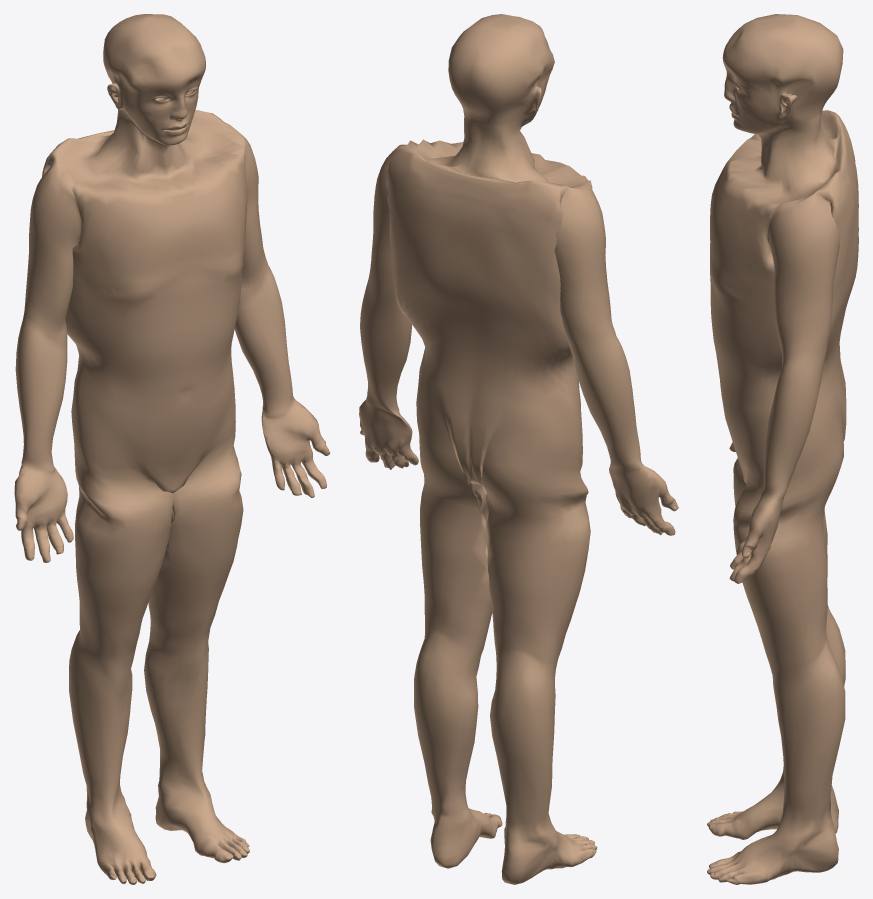
File: skin-candidate-f3c11.glb
3 views of the same model, side by side, from view 1: azimuth 30°, elevation 25°; view 2: azimuth 150°, elevation 25°; view 3: azimuth 270°, elevation 25° (orthographic).
Parts seen in each view (by area): view 1: MakeHuman_AT10_skin_fit_candidate_f3c11; view 2: MakeHuman_AT10_skin_fit_candidate_f3c11; view 3: MakeHuman_AT10_skin_fit_candidate_f3c11.
Boxes of the visible parts, x1=… form: MakeHuman_AT10_skin_fit_candidate_f3c11: x1=14, y1=14, x2=330, y2=884; MakeHuman_AT10_skin_fit_candidate_f3c11: x1=359, y1=14, x2=678, y2=884; MakeHuman_AT10_skin_fit_candidate_f3c11: x1=707, y1=14, x2=858, y2=884.
Bounding box in the file's own units: 0.6758 × 1.71 × 0.2826.
